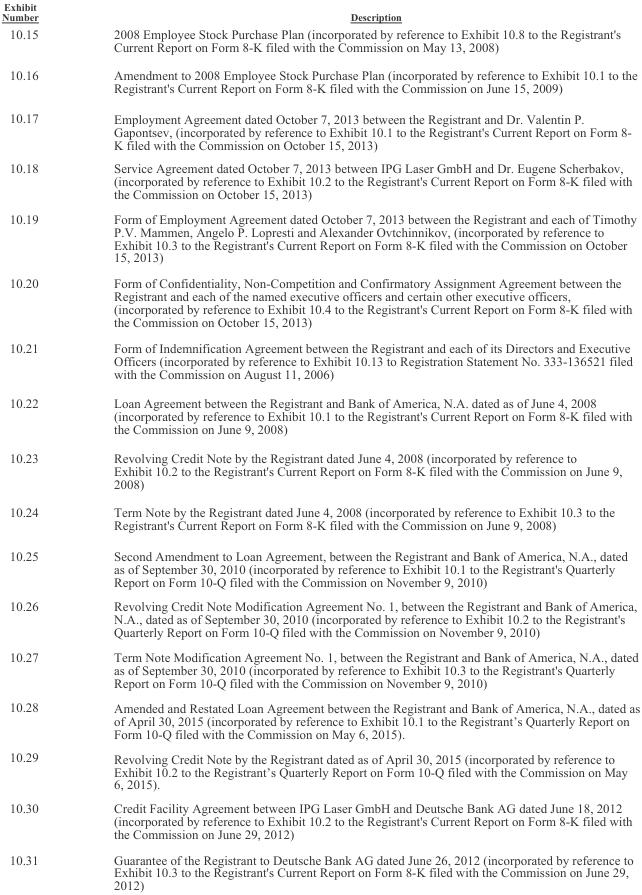table: (1, 0, 639, 892)
table column: (75, 0, 639, 892), (1, 0, 75, 892)
table column header: (1, 0, 639, 24)
table row: (1, 206, 639, 270), (1, 270, 639, 334), (1, 388, 639, 443), (1, 102, 639, 156), (1, 334, 639, 388), (1, 443, 639, 497), (1, 540, 639, 593), (1, 593, 639, 644), (1, 694, 639, 745), (1, 795, 639, 846), (1, 156, 639, 206), (1, 644, 639, 694), (1, 745, 639, 795), (1, 846, 639, 892), (1, 497, 639, 540), (1, 60, 639, 102), (1, 24, 639, 60), (1, 0, 639, 24)
